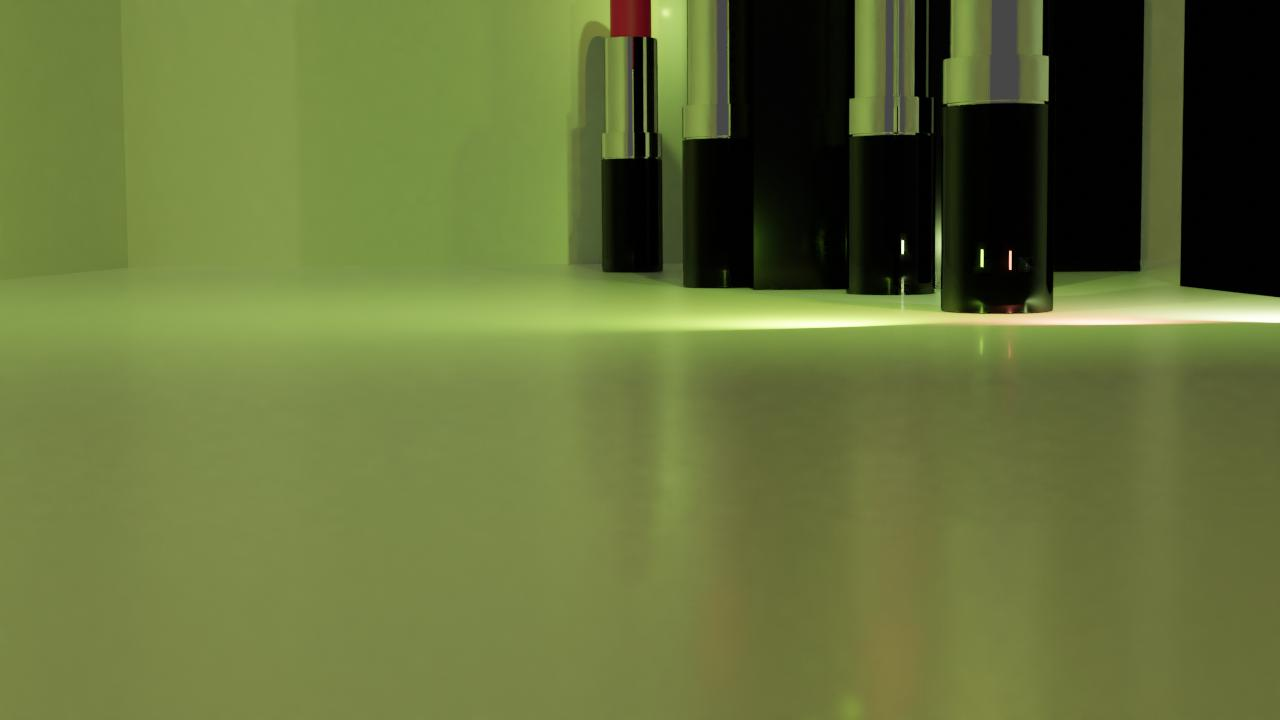CLASSIFIER_NAME: (938, 0, 1059, 314), (844, 0, 938, 302), (681, 0, 764, 288), (601, 0, 664, 272)
